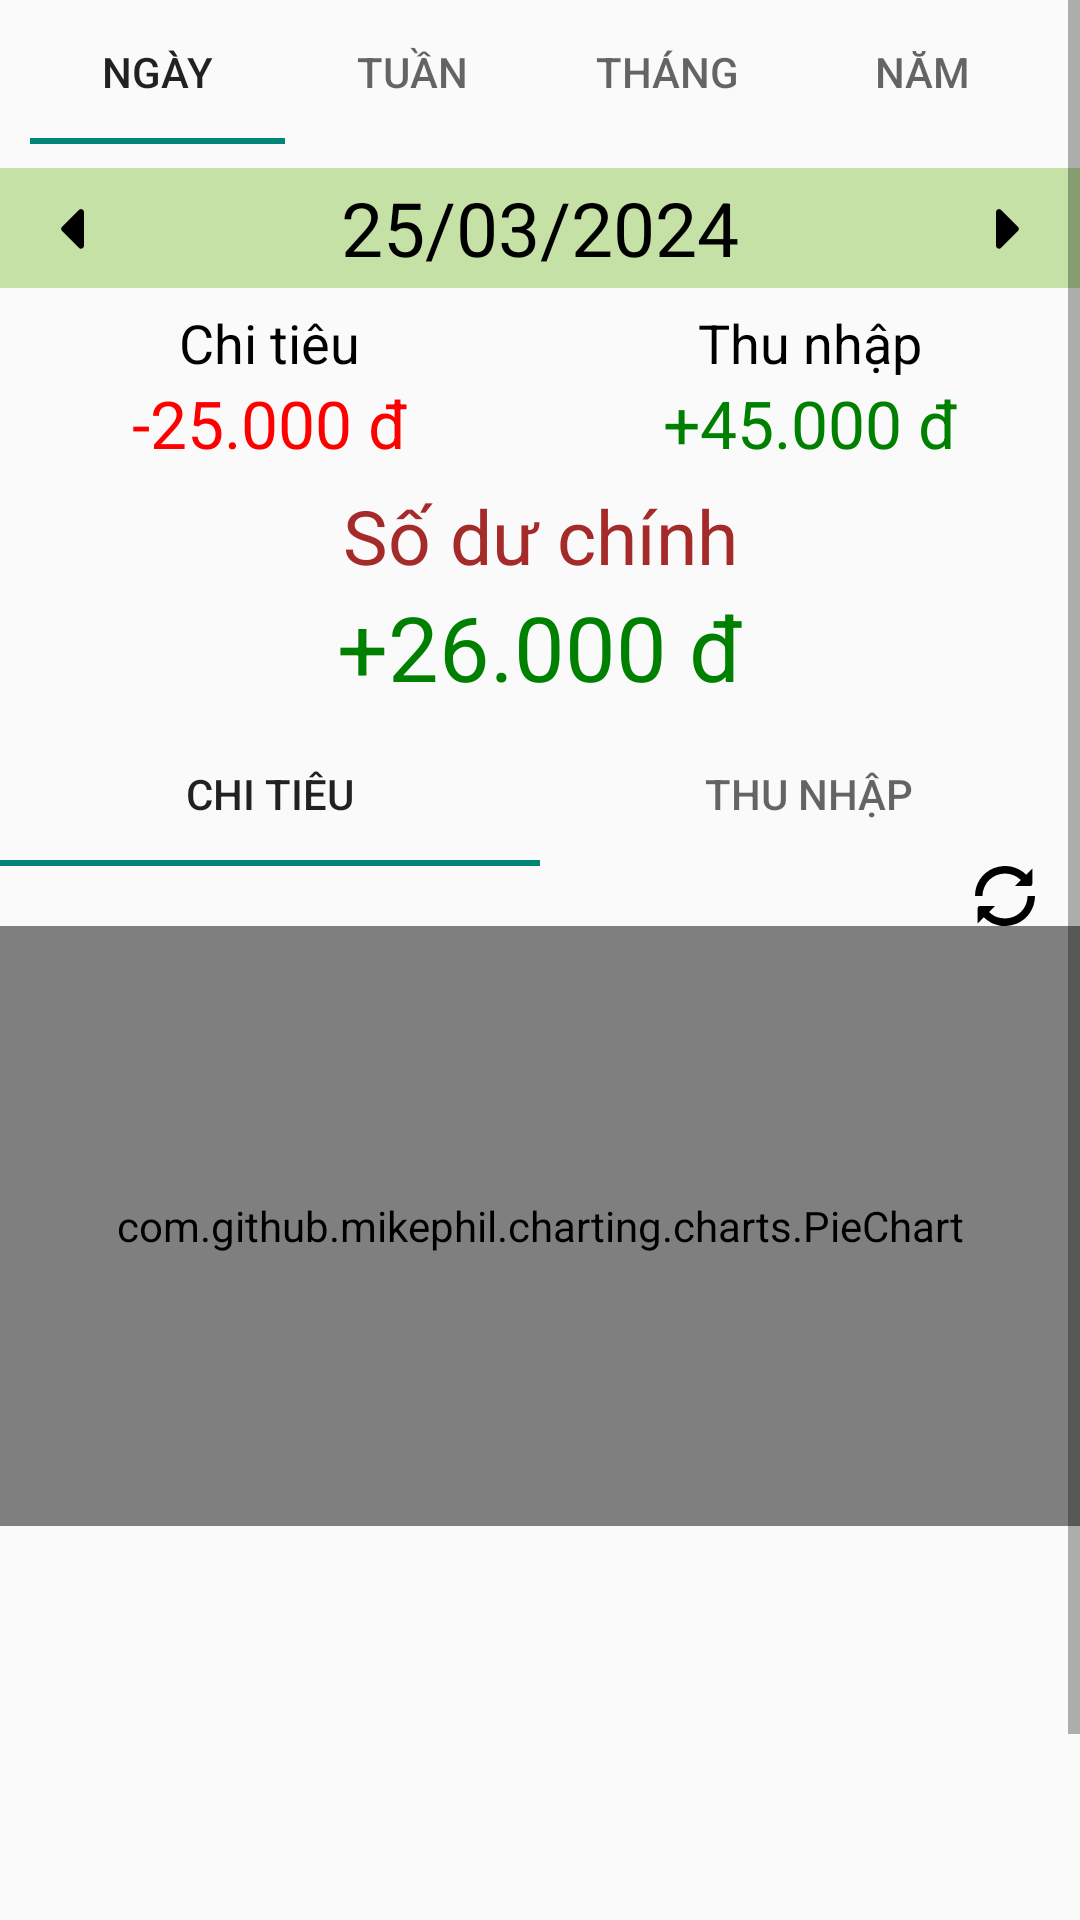

Icons on this 1080w x 1920h Android screen, each with the point to tap as (x,y):
sau: (1005,228)
truoc: (72,229)
